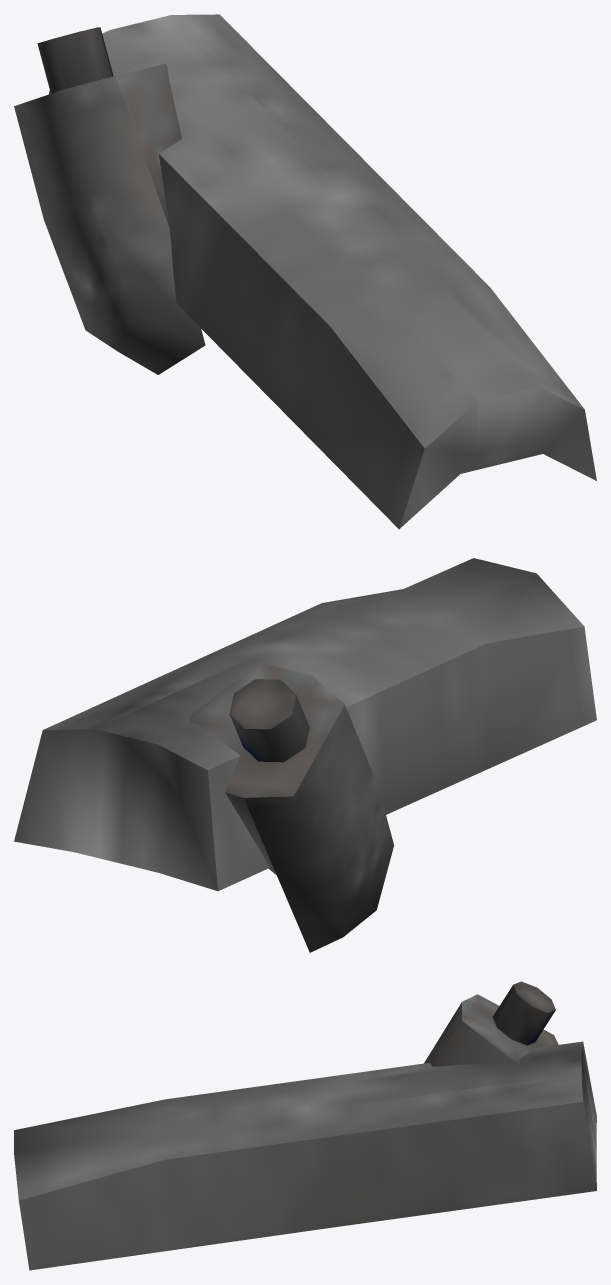
Rendered from 1875Gun_TrapDoorOpen.fbx.
The picture shows the model from 3 angles, top to bottom: view 1: azimuth 30°, elevation 25°; view 2: azimuth 150°, elevation 25°; view 3: azimuth 270°, elevation 25°; orthographic projection. The views are drawn at different scales.
Visible parts, largest first — view 1: Trapdoor.001; view 2: Trapdoor.001; view 3: Trapdoor.001.
Part boxes in pixels (x1,y1,x2,y2): Trapdoor.001: (14, 14, 596, 529); Trapdoor.001: (14, 558, 596, 952); Trapdoor.001: (14, 981, 596, 1270).
Size of the model in its own units: 0.0143 by 0.0162 by 0.0384.
